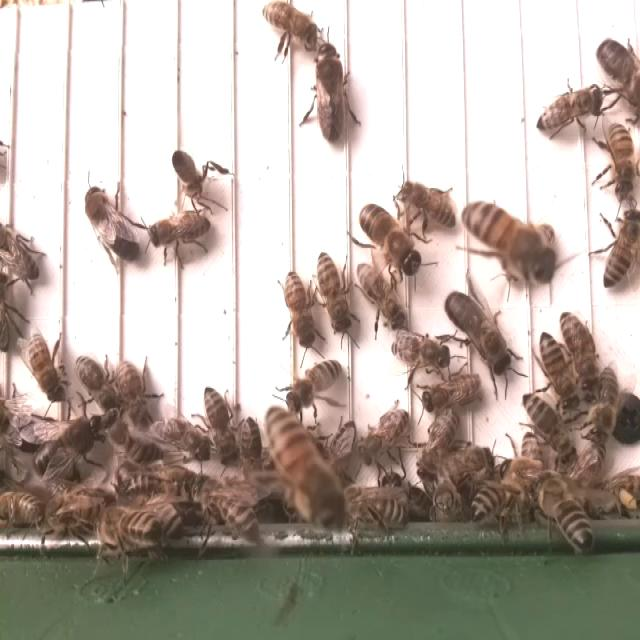Drone: (441, 285, 513, 380), (357, 200, 425, 278), (82, 180, 143, 266), (310, 38, 350, 146)
Worker: (461, 199, 549, 280), (558, 304, 600, 396), (522, 388, 573, 463), (355, 260, 408, 332), (283, 356, 345, 417), (534, 82, 604, 135), (20, 329, 68, 404), (314, 250, 354, 340), (415, 408, 462, 484), (599, 204, 640, 291), (114, 352, 158, 432), (357, 407, 412, 468), (202, 379, 238, 468), (538, 330, 578, 410), (399, 175, 459, 228), (72, 351, 119, 418), (282, 266, 317, 353), (419, 369, 485, 415), (146, 211, 218, 251), (604, 118, 638, 202), (262, 0, 322, 47), (389, 331, 453, 372)
